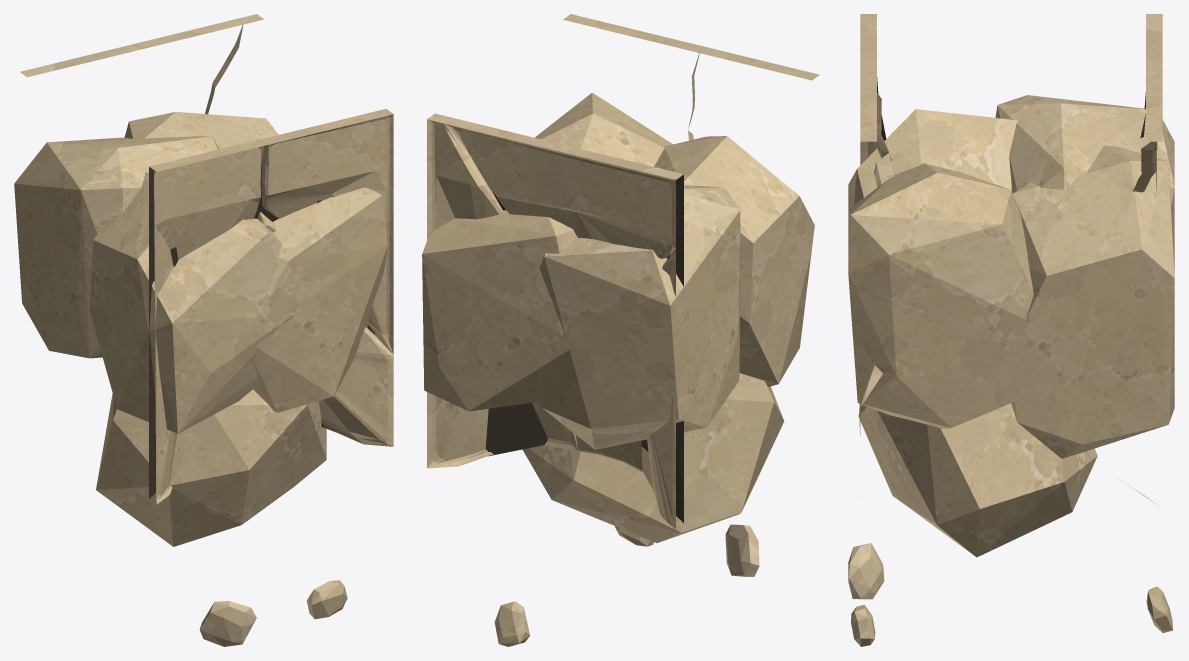
File: ground_bottom_square_strip_09.glb
The picture shows the model from 3 angles, left to right: view 1: azimuth 30°, elevation 25°; view 2: azimuth 150°, elevation 25°; view 3: azimuth 270°, elevation 25°; orthographic projection. The views are drawn at different scales.
Parts seen in each view (by area): view 1: GroundBottomSquareStrip09_Body; view 2: GroundBottomSquareStrip09_Body; view 3: GroundBottomSquareStrip09_Body.
Part boxes in pixels (x1,y1,x2,y2): GroundBottomSquareStrip09_Body: (14,14,393,646); GroundBottomSquareStrip09_Body: (422,14,819,646); GroundBottomSquareStrip09_Body: (848,14,1174,646).
Size of the model in its own units: 1 by 1.99 by 1.08.
Materials: 8 (7 with a texture image).
